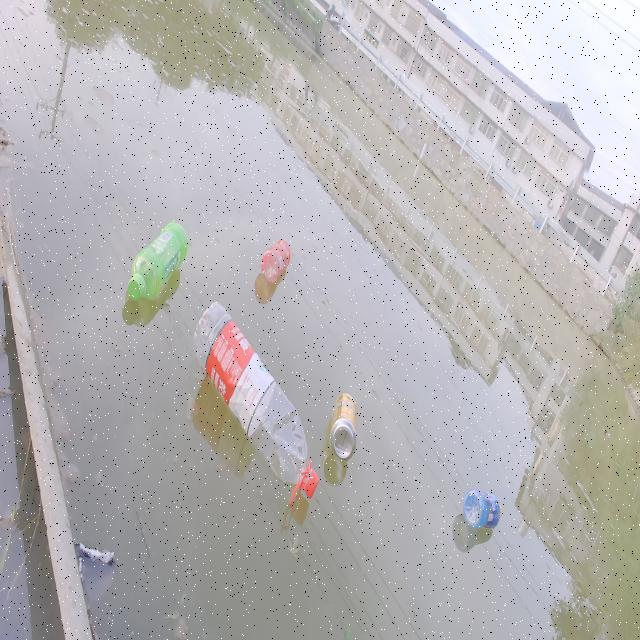Bottle: (193, 297, 321, 508), (124, 210, 191, 309), (458, 475, 504, 531), (256, 224, 293, 286)
Can: (328, 384, 360, 462)
